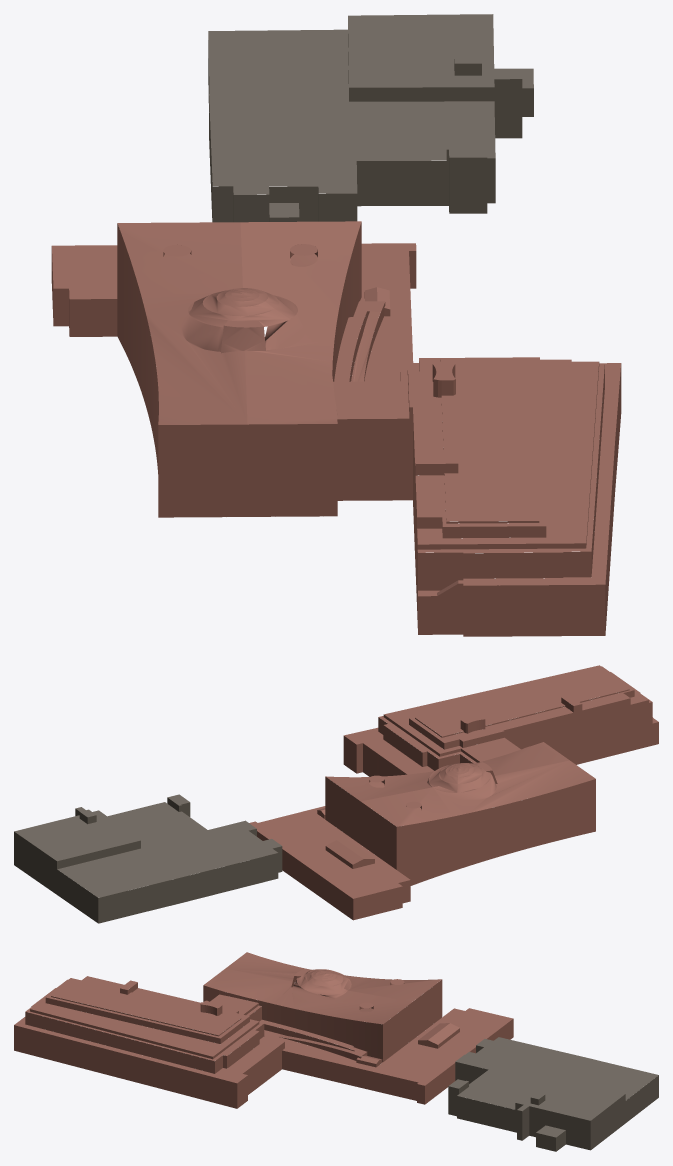
The model's file is tile-13_-12.glb.
The picture shows the model from 3 angles, top to bottom: view 1: azimuth 30°, elevation 25°; view 2: azimuth 150°, elevation 25°; view 3: azimuth 270°, elevation 25°; orthographic projection. The views are drawn at different scales.
Parts seen in each view (by area): view 1: roof, wall; view 2: roof, wall; view 3: roof, wall.
Boxes of the visible parts, <box> form: roof: <box>52,14,620,596</box>; wall: <box>51,34,621,636</box>; roof: <box>14,665,658,898</box>; wall: <box>14,689,658,923</box>; roof: <box>14,952,658,1137</box>; wall: <box>14,976,658,1151</box>.
Bounding box in the file's own units: 214 × 38.29 × 349.
